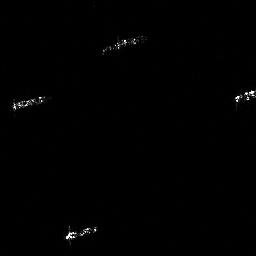ship: (98, 31, 151, 55), (9, 92, 51, 114), (61, 223, 101, 244), (232, 89, 256, 105)
